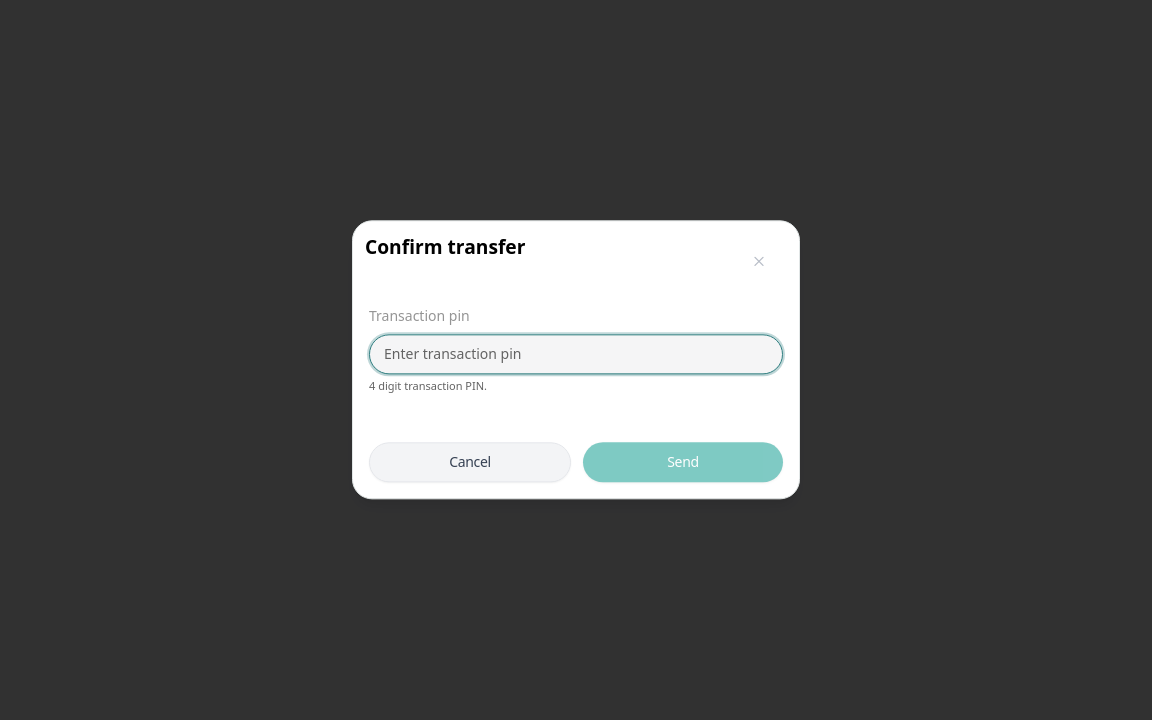
TransactionPinModal › locks the Confirm button after three consecutive PIN failures
Type "1234" into the password field with placeholder "Enter transaction pin" at (576, 354), box [369,334,783,374]
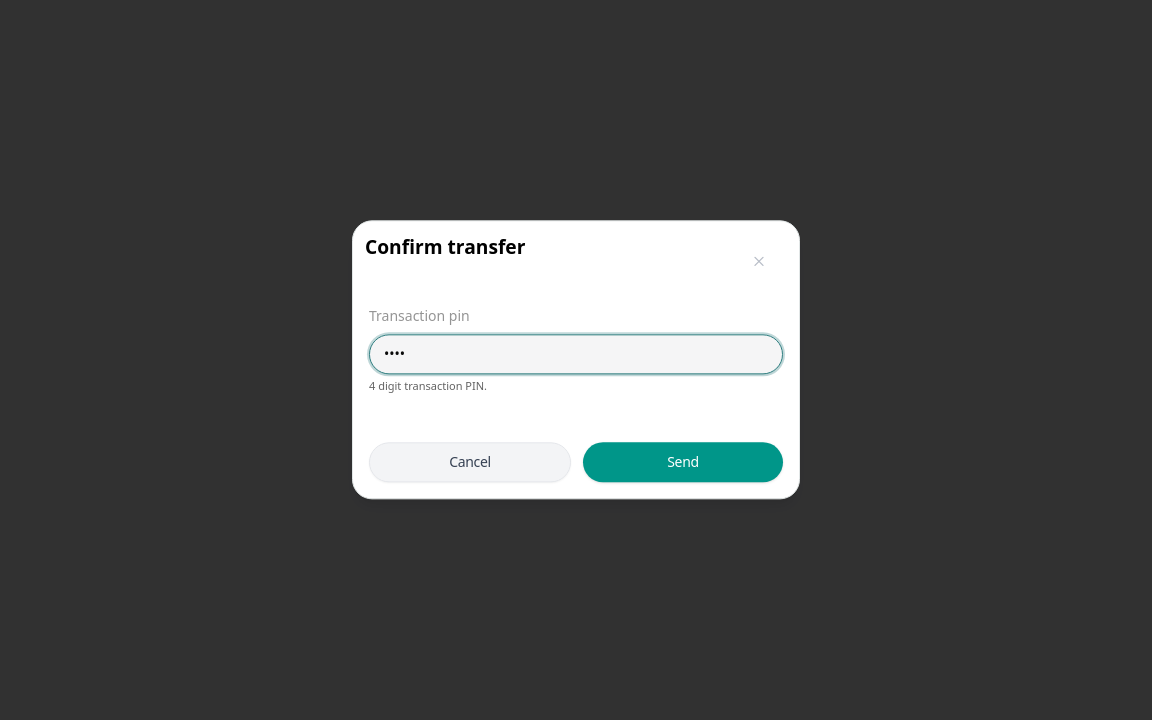
Click the button "Send" at (683, 463), box [583,443,783,483]
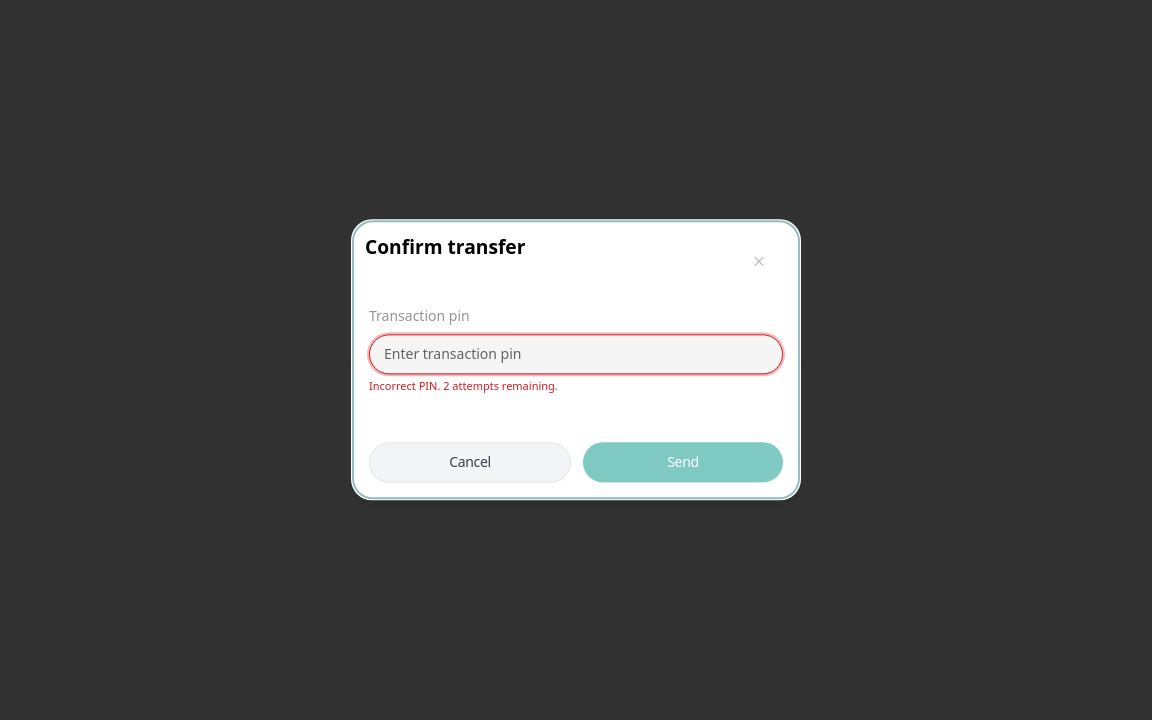
Type "1234" into the password field with placeholder "Enter transaction pin" at (576, 354), box [369,334,783,374]
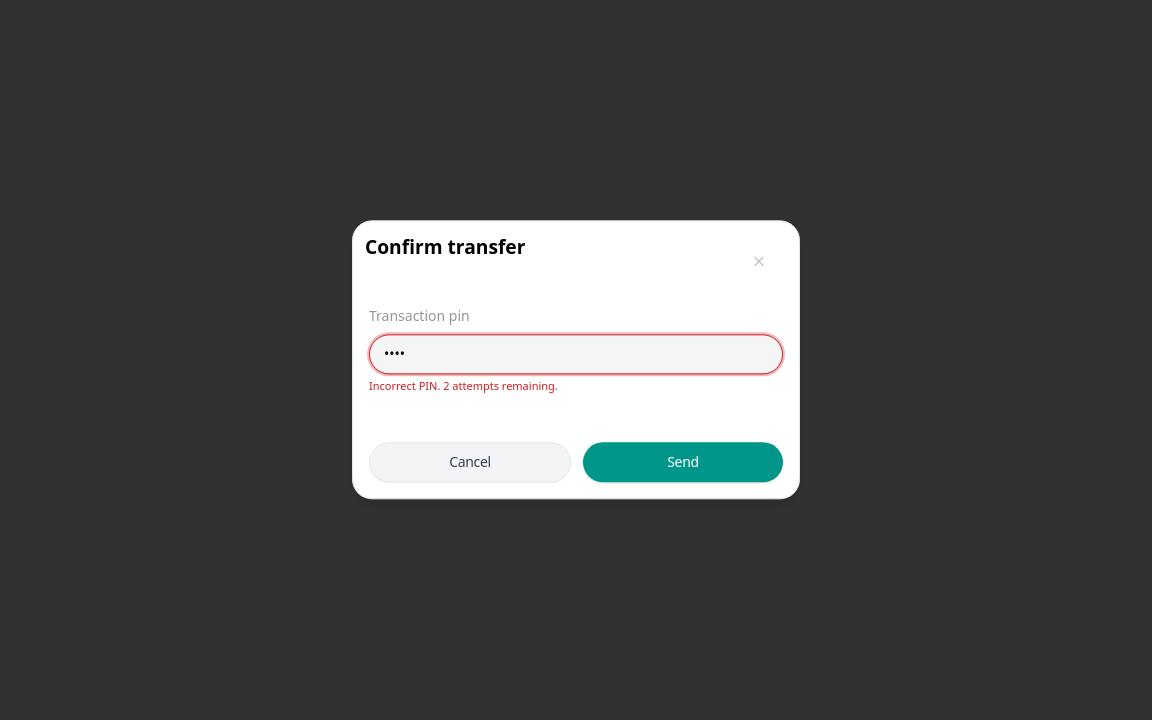
Click the button "Send" at (683, 463), box [583,443,783,483]
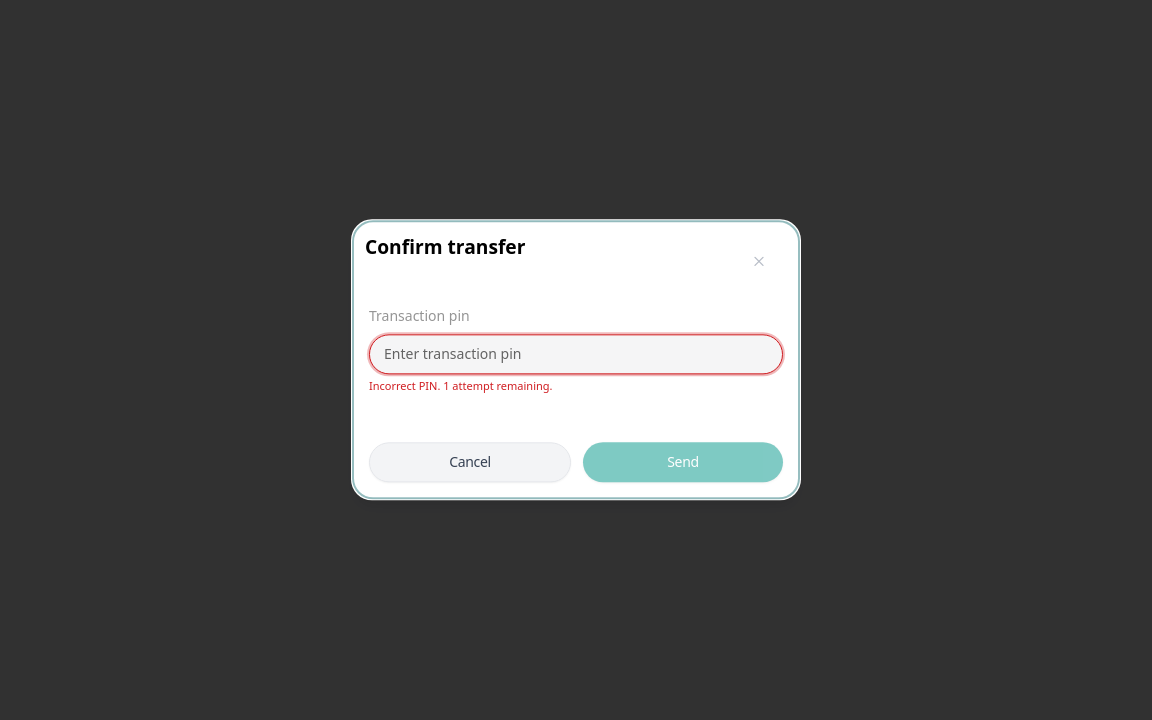
Type "1234" into the password field with placeholder "Enter transaction pin" at (576, 354), box [369,334,783,374]
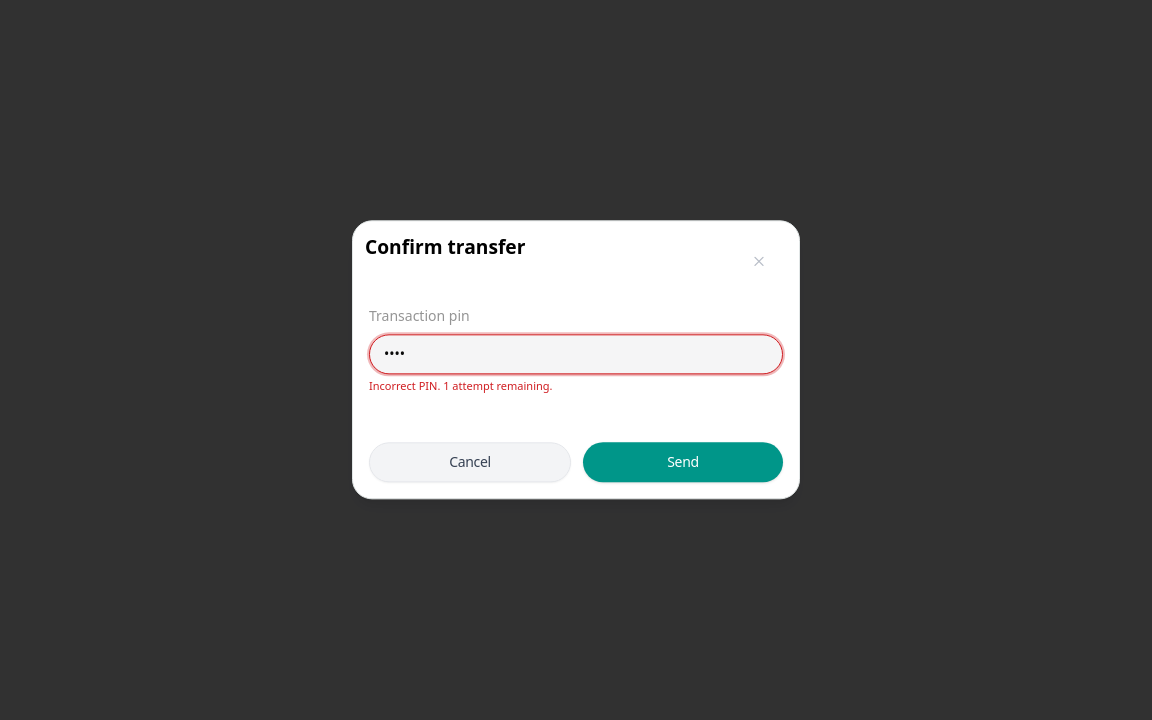
Click the button "Send" at (683, 463), box [583,443,783,483]
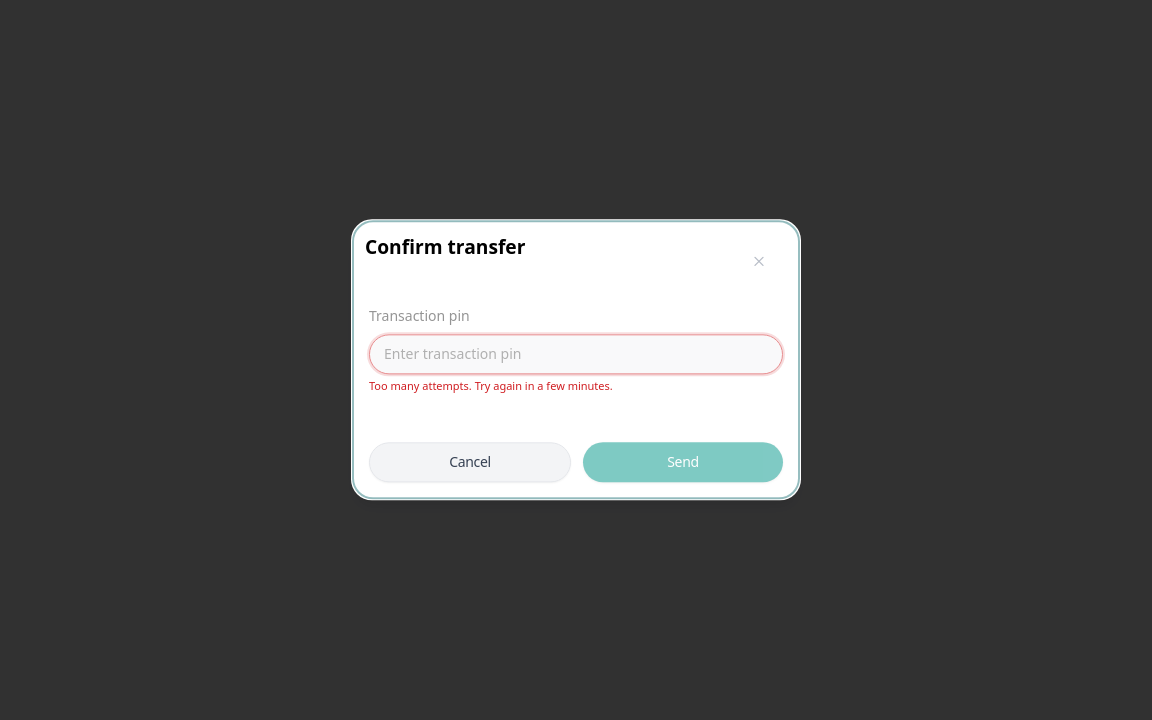
Check: the message reads "Too many attempts. Try again in a few minutes.", box [369,378,613,393]
Check: the button "Send" is disabled, box [583,443,783,483]
